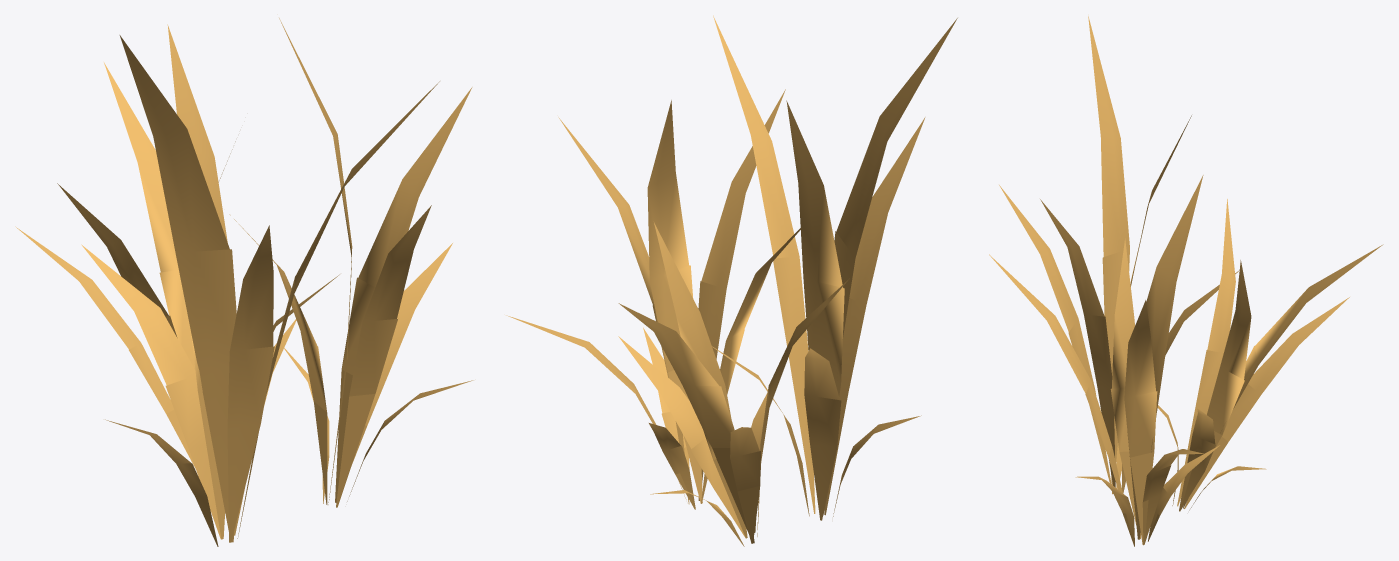
The model's file is mesh139__fd90de3d_57ee_5043_bc21_c10859deb2c4__0_lev1.glb.
The picture shows the model from 3 angles, left to right: view 1: azimuth 30°, elevation 25°; view 2: azimuth 150°, elevation 25°; view 3: azimuth 270°, elevation 25°; orthographic projection. The views are drawn at different scales.
Visible parts, largest first — view 1: mesh139__fd90de3d_57ee_5043_bc21_c10859deb2c4__0_lev1; view 2: mesh139__fd90de3d_57ee_5043_bc21_c10859deb2c4__0_lev1; view 3: mesh139__fd90de3d_57ee_5043_bc21_c10859deb2c4__0_lev1.
Boxes of the visible parts, box(x1,y1,x2,y2) form: mesh139__fd90de3d_57ee_5043_bc21_c10859deb2c4__0_lev1: box(15, 18, 473, 546); mesh139__fd90de3d_57ee_5043_bc21_c10859deb2c4__0_lev1: box(506, 15, 957, 546); mesh139__fd90de3d_57ee_5043_bc21_c10859deb2c4__0_lev1: box(989, 16, 1383, 546).
Size of the model in its own units: 4.99 by 6.51 by 5.36.
